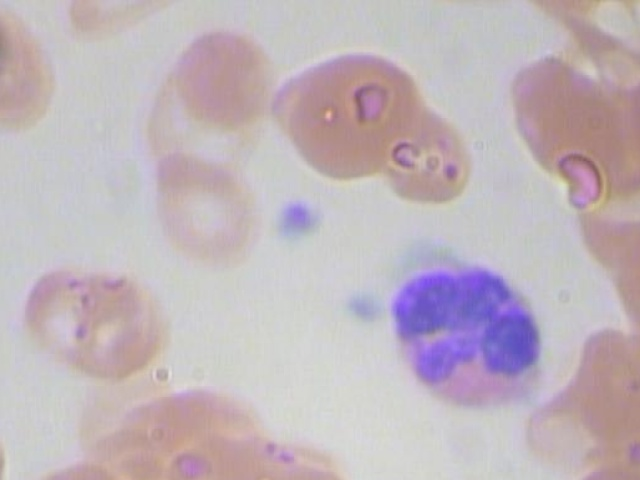Platelets: (270, 194, 327, 250), (336, 280, 393, 336)
RBC: (500, 47, 640, 214), (276, 43, 426, 182), (521, 307, 640, 474), (164, 9, 279, 139), (61, 257, 176, 387), (147, 145, 262, 274), (373, 96, 475, 206), (0, 3, 78, 137), (11, 251, 94, 367), (58, 0, 226, 43), (228, 454, 373, 480), (540, 454, 640, 480), (10, 460, 135, 480), (0, 390, 9, 480)
WBC: (391, 245, 552, 427)
